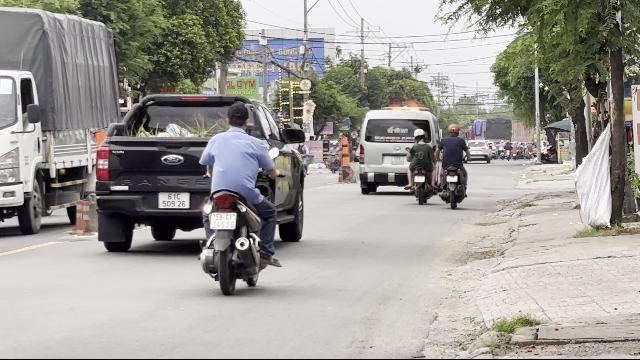licenseplate: (210, 212, 236, 230)
motorcyclist: (195, 102, 282, 292)
nohelmet: (224, 102, 250, 130)
